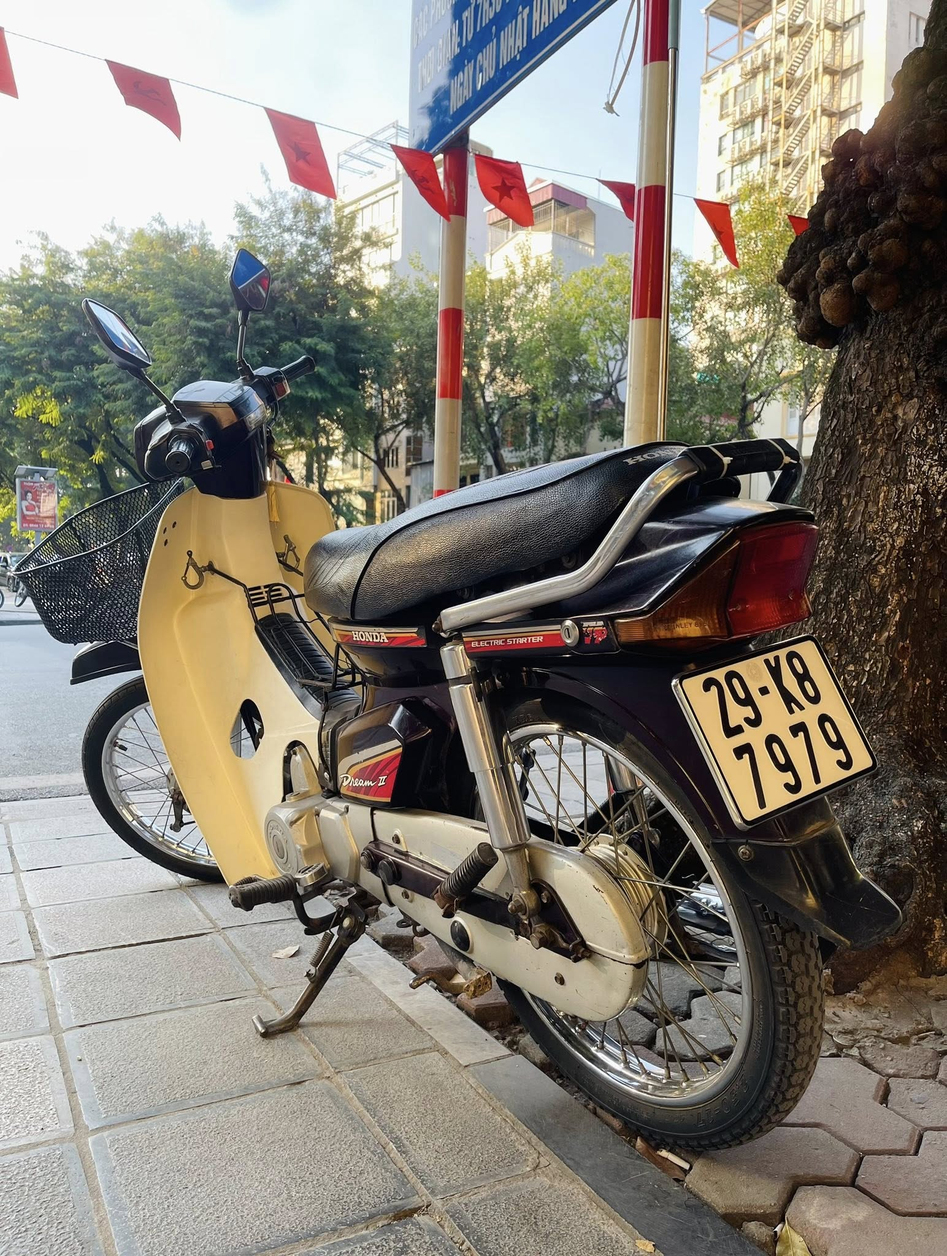bien_so: (662, 628, 891, 838)
